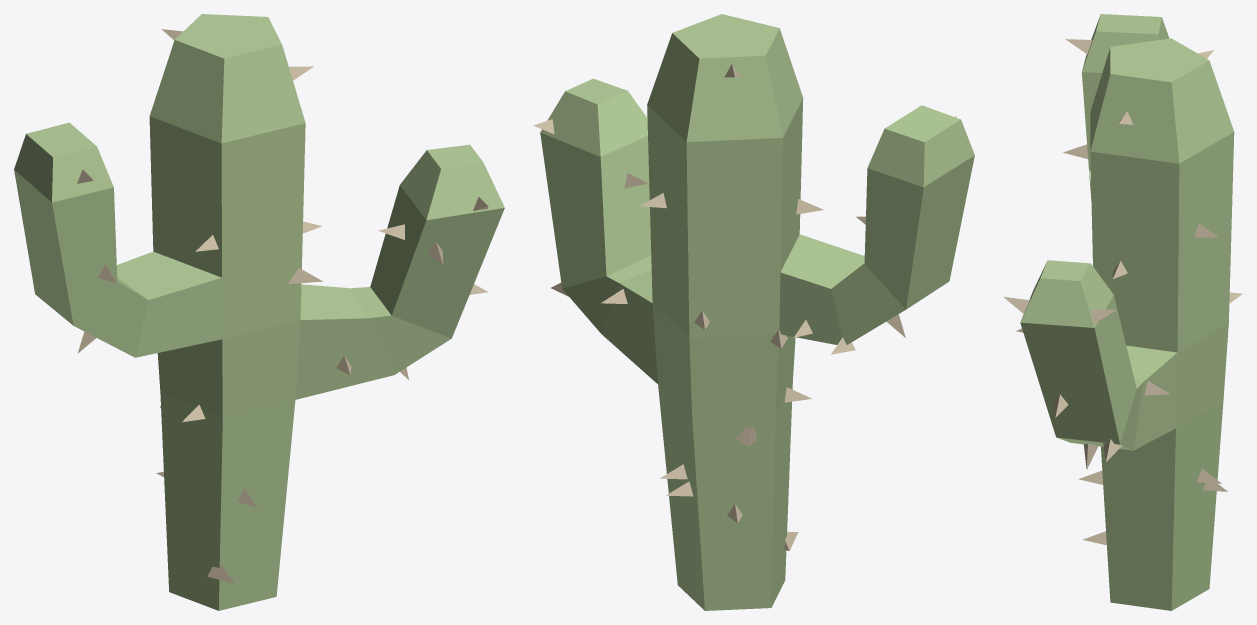
File: Cactus.fbx
3 views of the same model, side by side, from view 1: azimuth 30°, elevation 25°; view 2: azimuth 150°, elevation 25°; view 3: azimuth 270°, elevation 25° (orthographic). The views are drawn at different scales.
Visible parts, largest first — view 1: Cactus; view 2: Cactus; view 3: Cactus.
Part boxes in pixels (<box>): Cactus: <box>14,14,504,610</box>; Cactus: <box>533,14,974,610</box>; Cactus: <box>1003,14,1242,610</box>.
Bounding box in the file's own units: 758 × 924 × 378.
